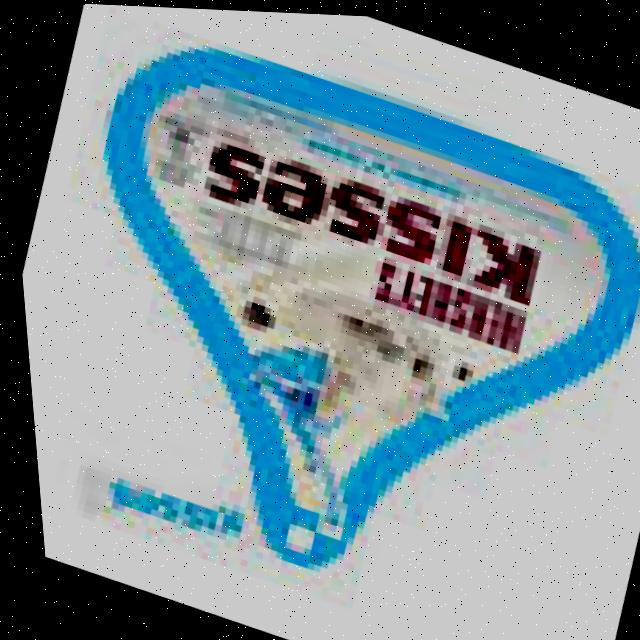kisses: (123, 97, 223, 208)
